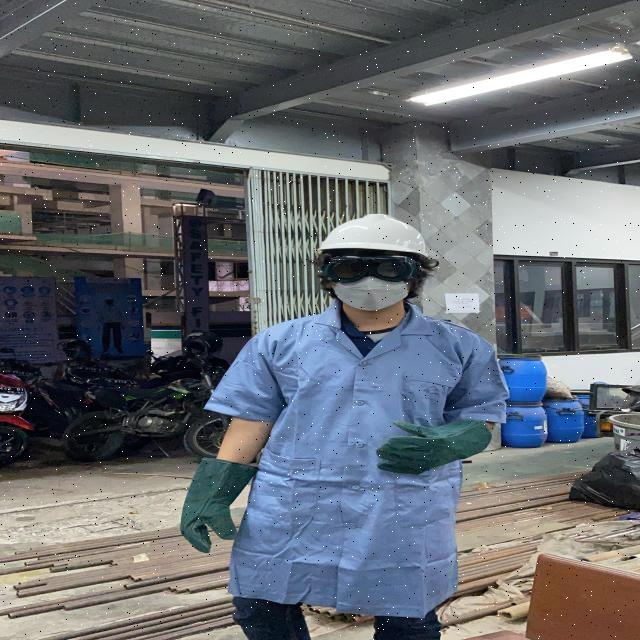Hard_hat: (315, 208, 436, 264)
